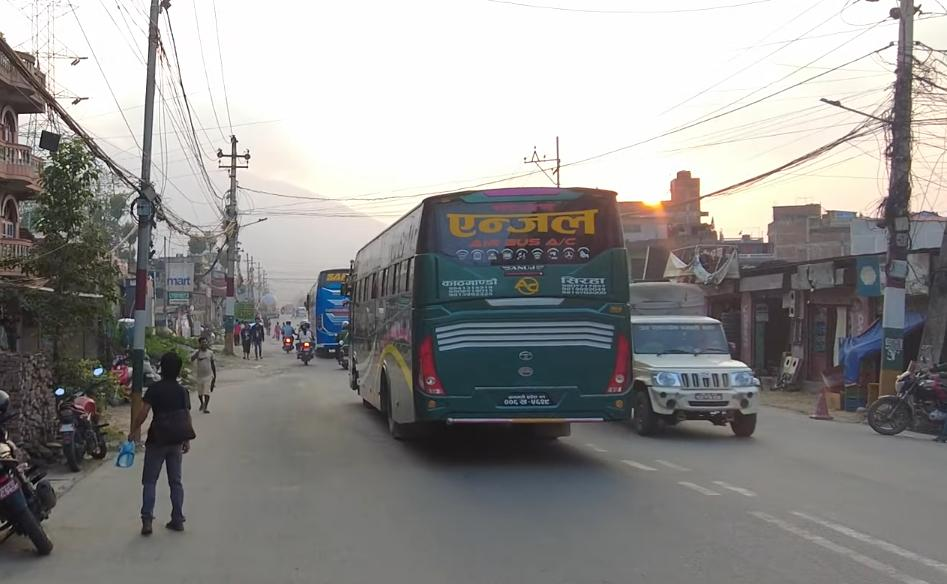bike: (864, 362, 947, 446)
bus: (344, 187, 643, 424), (302, 261, 359, 356)
transport_vehicle: (625, 273, 762, 444)
